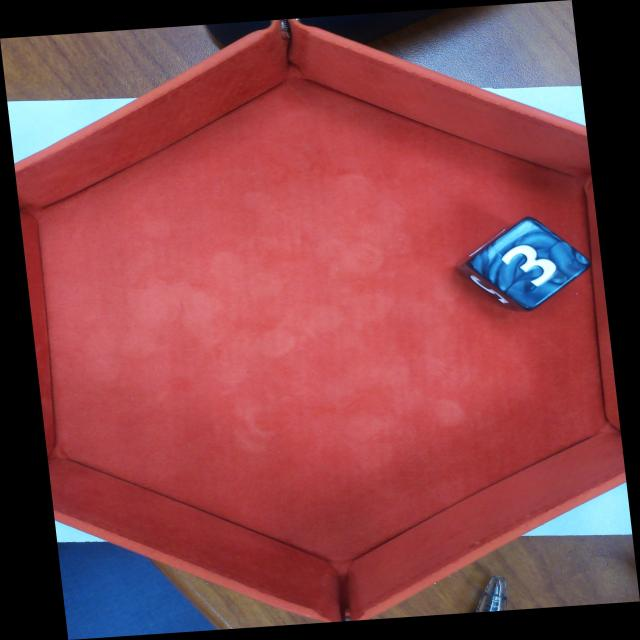dice: (464, 214, 596, 316)
